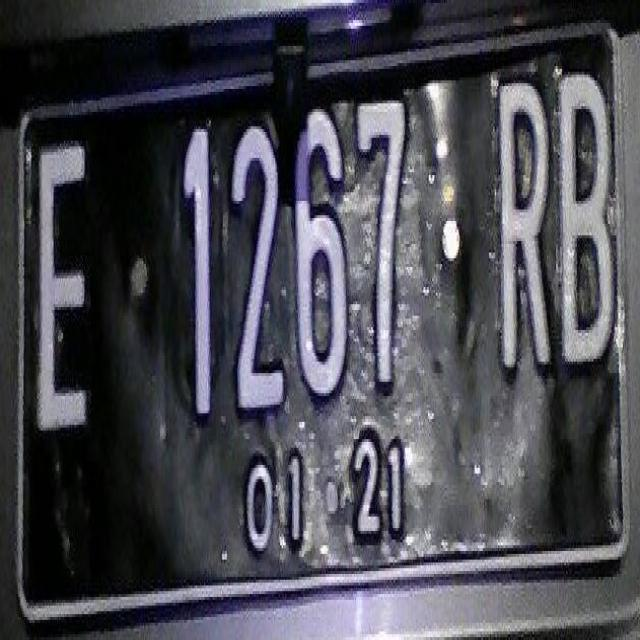plate: (18, 29, 628, 594)
